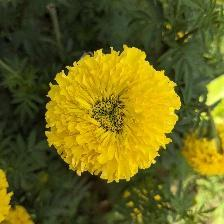marigold: (43, 45, 183, 185)
